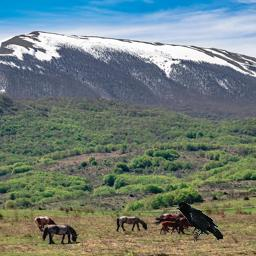Crow: (173, 202, 223, 242)
